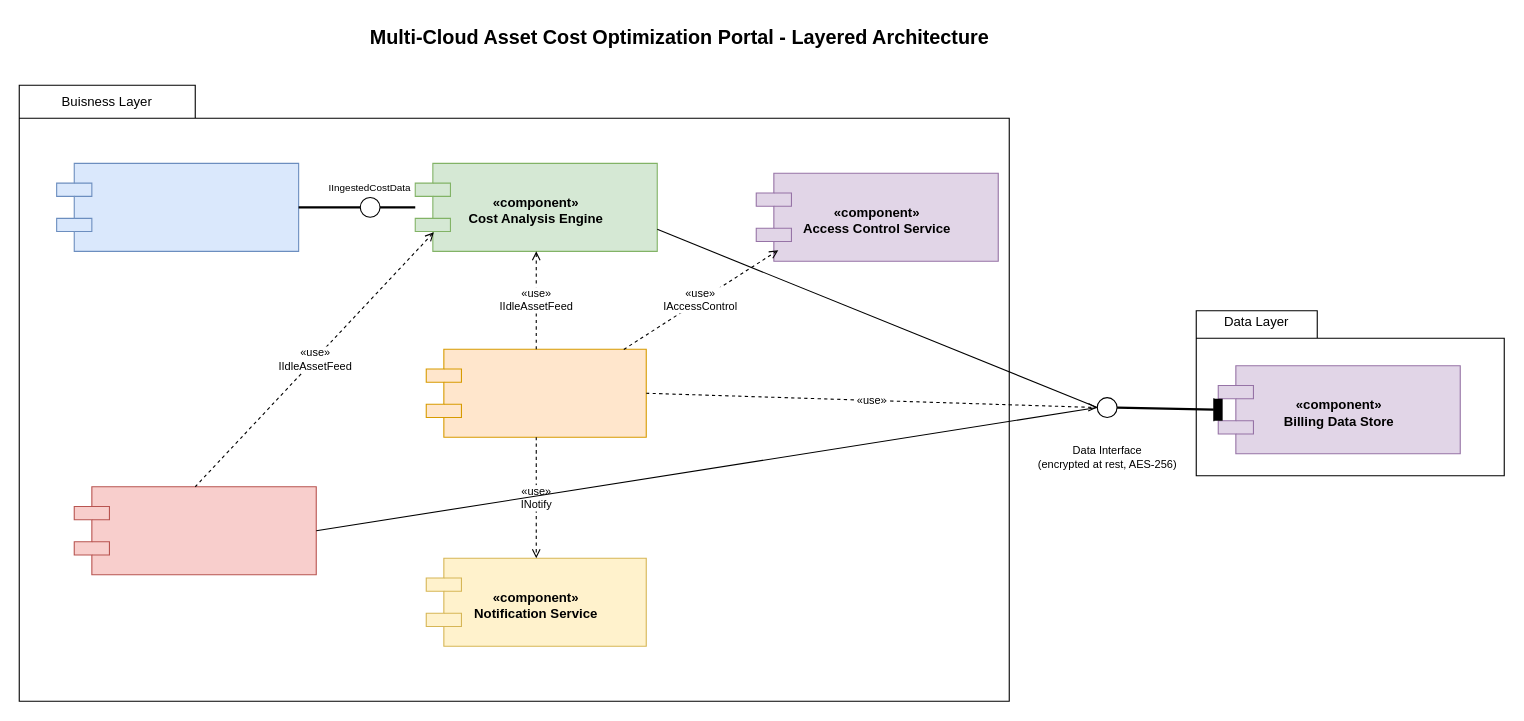
Some shapes in this 1524 by 721 pixel diagram are drawn without their labels. The shapes that lost their labels are listed below. From the top down, each one's centre as x and y in pixels, then its label:
At (177,206): "«component» Billing Ingestion Service".
At (535,392): "«component» Budget & Alert Manager".
At (194,530): "«component» Report Generator".
